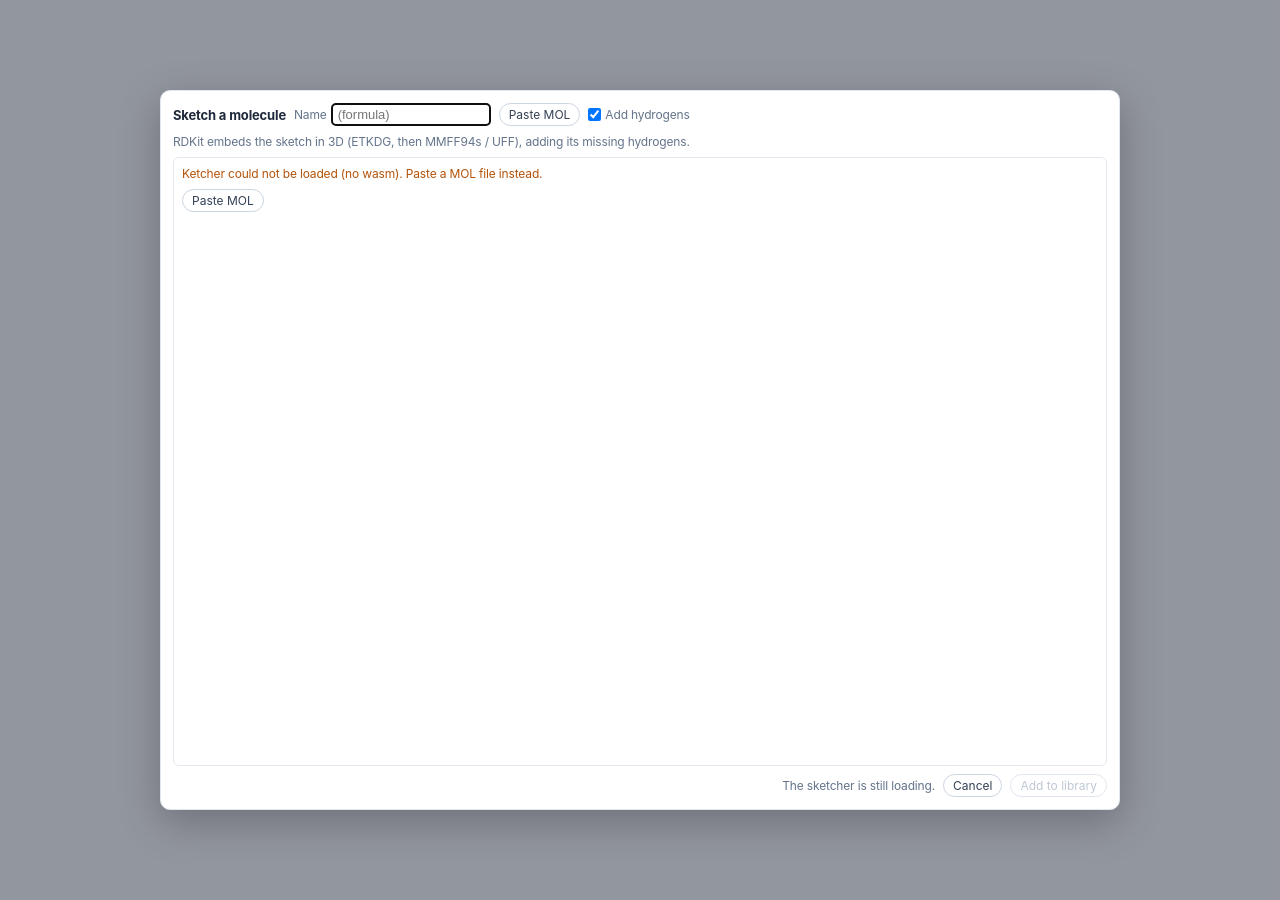
SketchModal › falls back to pasting when Ketcher cannot load
Expected: the element with test id "sketch-fallback" is shown, [182,166,542,212]
Expected: the element with test id "sketch-fallback" shows "no wasm", [345,166,395,181]
What coordinates should you click on to do the following:
click the button with test id "sketch-fallback-paste"
I would click on:
 (223, 200)
Its box is [182,189,264,212].
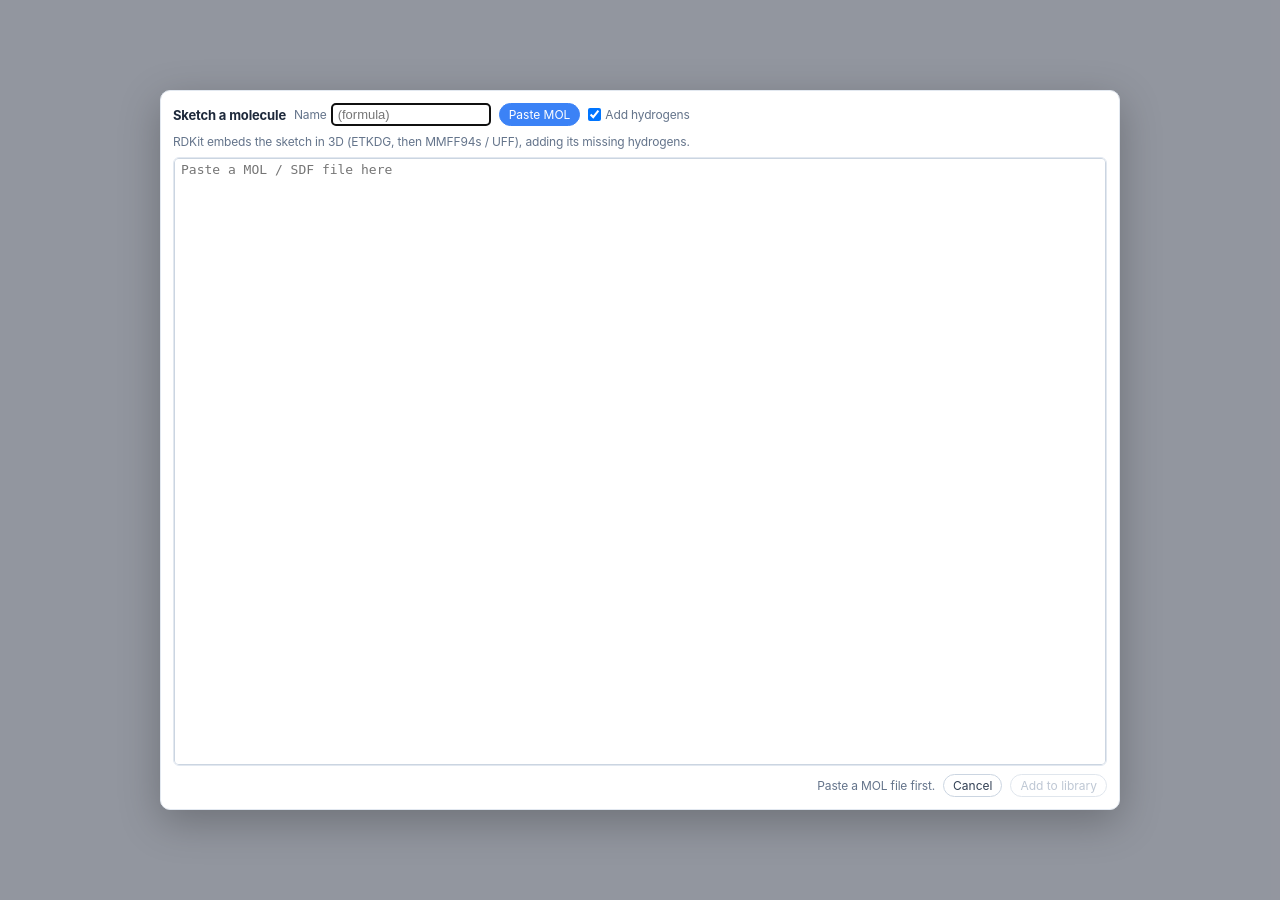
Expected: the text box with test id "sketch-molfile" is shown, [174,158,1106,765]
